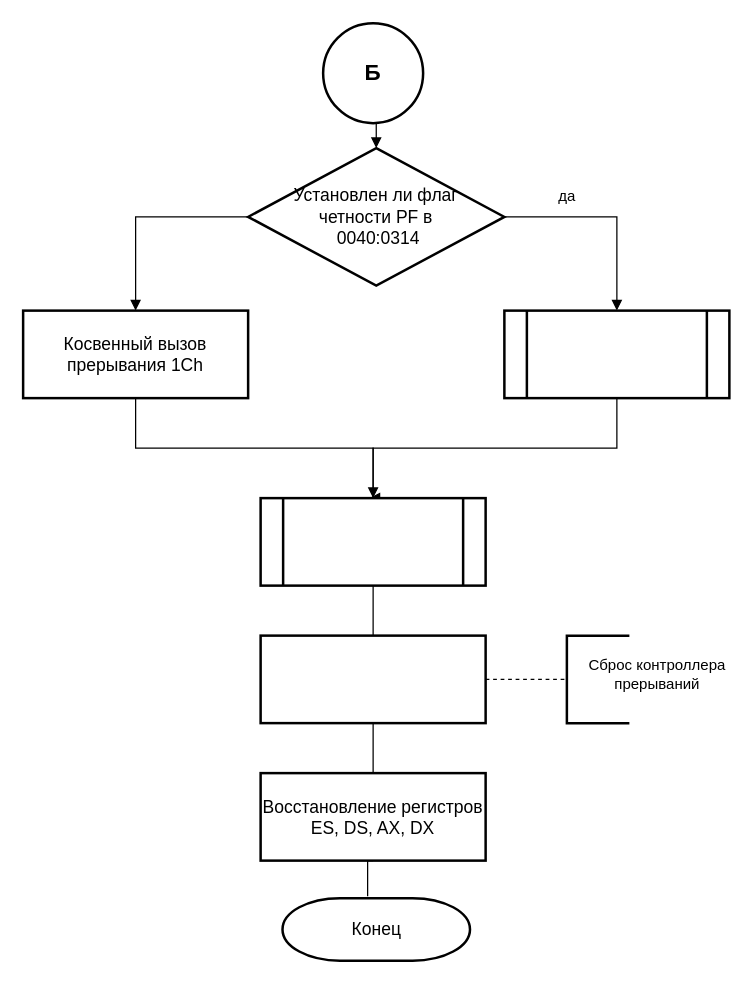
This 753x983 diagram has some shape labels left out. The box of each missing label's shape, as (x1, y1, x2, y2) in pixels:
Вызов прерывания 1Ch: (502, 309, 730, 399)
Вызов процедуры sub_7: (259, 496, 486, 586)
Посылка команды (20h) в порт 20h: (259, 634, 486, 724)
